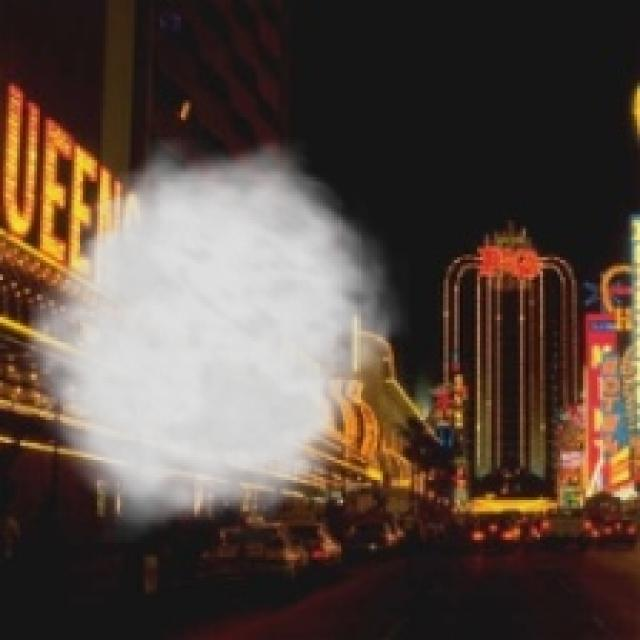smoke: (14, 137, 412, 543)
